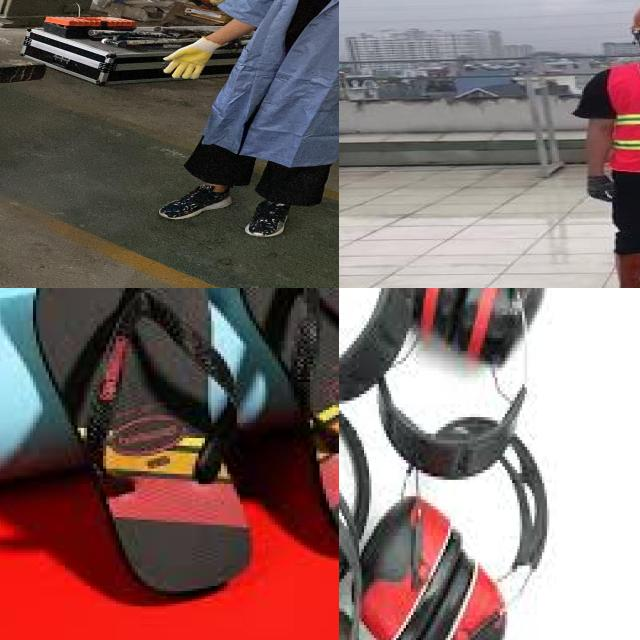Ear-protection: (349, 489, 460, 640), (394, 552, 505, 640), (453, 288, 542, 361), (401, 288, 480, 334)
Sandals: (0, 288, 339, 632)
boots: (601, 251, 640, 288)
hand_glove: (157, 41, 214, 82), (584, 173, 621, 203)
person: (145, 0, 339, 231), (570, 0, 640, 288)
shoes: (157, 178, 237, 220), (238, 192, 298, 240)
vest: (603, 62, 640, 173)
